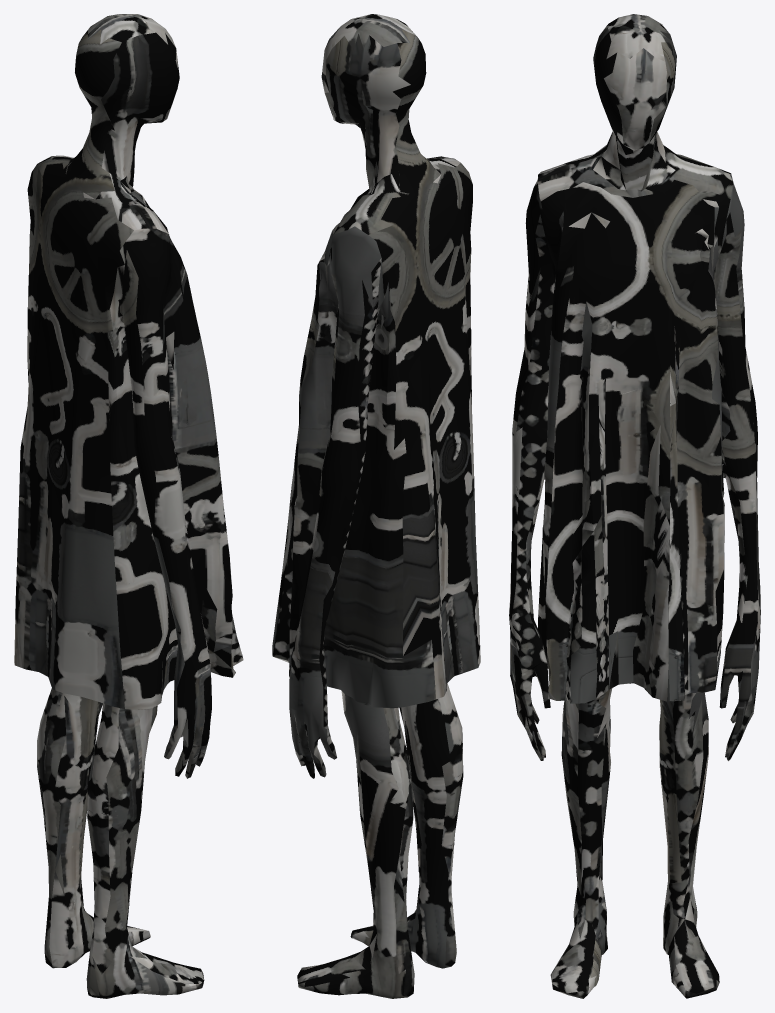
3 views of the same model, side by side, from view 1: azimuth 30°, elevation 25°; view 2: azimuth 150°, elevation 25°; view 3: azimuth 270°, elevation 25° (orthographic).
Visible parts, largest first — view 1: repaired; view 2: repaired; view 3: repaired.
Part boxes in pixels (x1,y1,x2,y2): repaired: (14, 14, 243, 998); repaired: (272, 14, 480, 998); repaired: (509, 14, 760, 998).
Size of the model in its own units: 0.1931 by 0.9995 by 0.2392.
